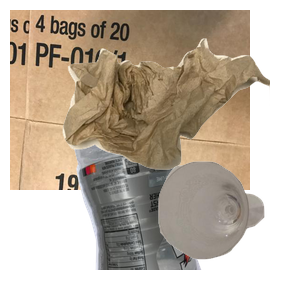cardboard: (10, 10, 250, 190)
glass: (156, 159, 300, 300)
plastic: (71, 120, 265, 300)
trash: (60, 36, 300, 198)
